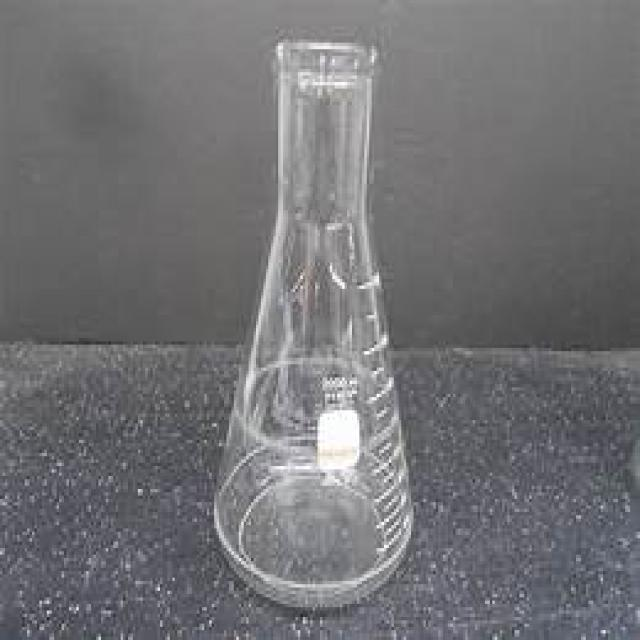Titrarion: (207, 21, 418, 612)
